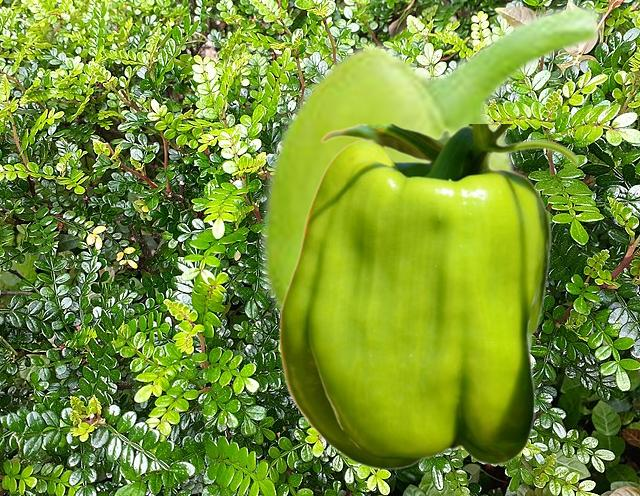bell_pepper: (257, 1, 607, 313), (278, 124, 578, 469)
